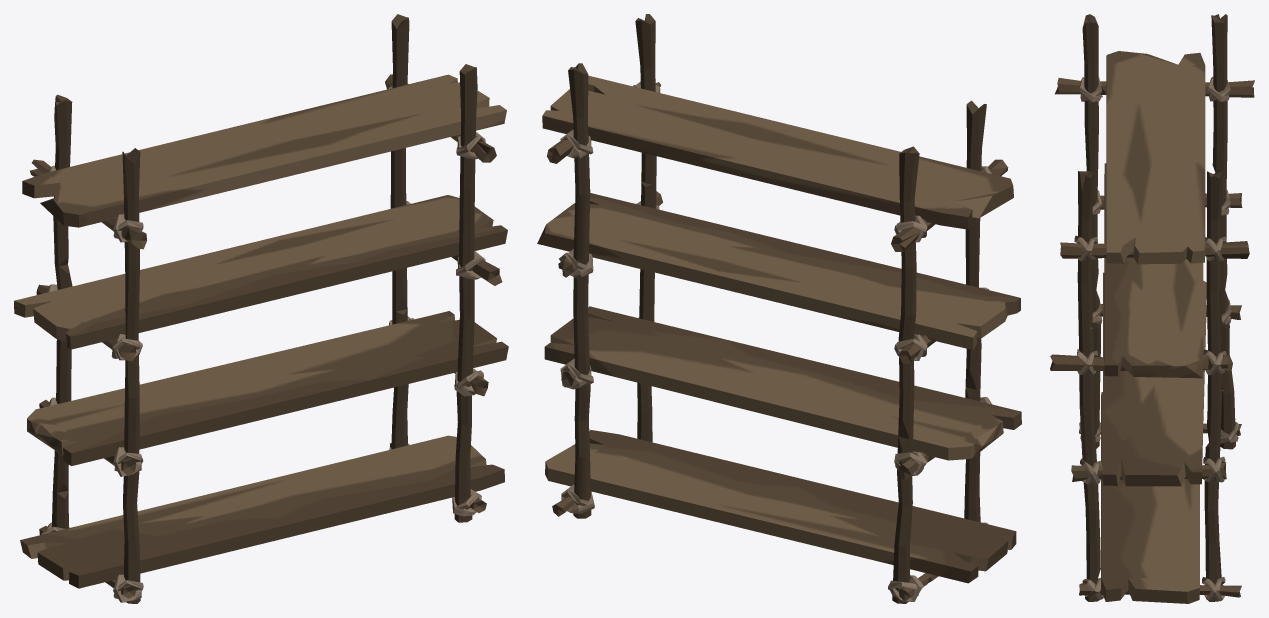
The model's file is SM_Prop_Shelf_02.fbx.
3 renders of one model, left to right at view 1: azimuth 30°, elevation 25°; view 2: azimuth 150°, elevation 25°; view 3: azimuth 270°, elevation 25°, orthographic. The views are drawn at different scales.
Visible parts, largest first — view 1: SM_Prop_Shelf_02; view 2: SM_Prop_Shelf_02; view 3: SM_Prop_Shelf_02.
Boxes of the visible parts, <box> form: SM_Prop_Shelf_02: <box>14,14,508,603</box>; SM_Prop_Shelf_02: <box>537,14,1021,603</box>; SM_Prop_Shelf_02: <box>1050,14,1254,603</box>.
Size of the model in its own units: 219 by 215 by 92.91.
